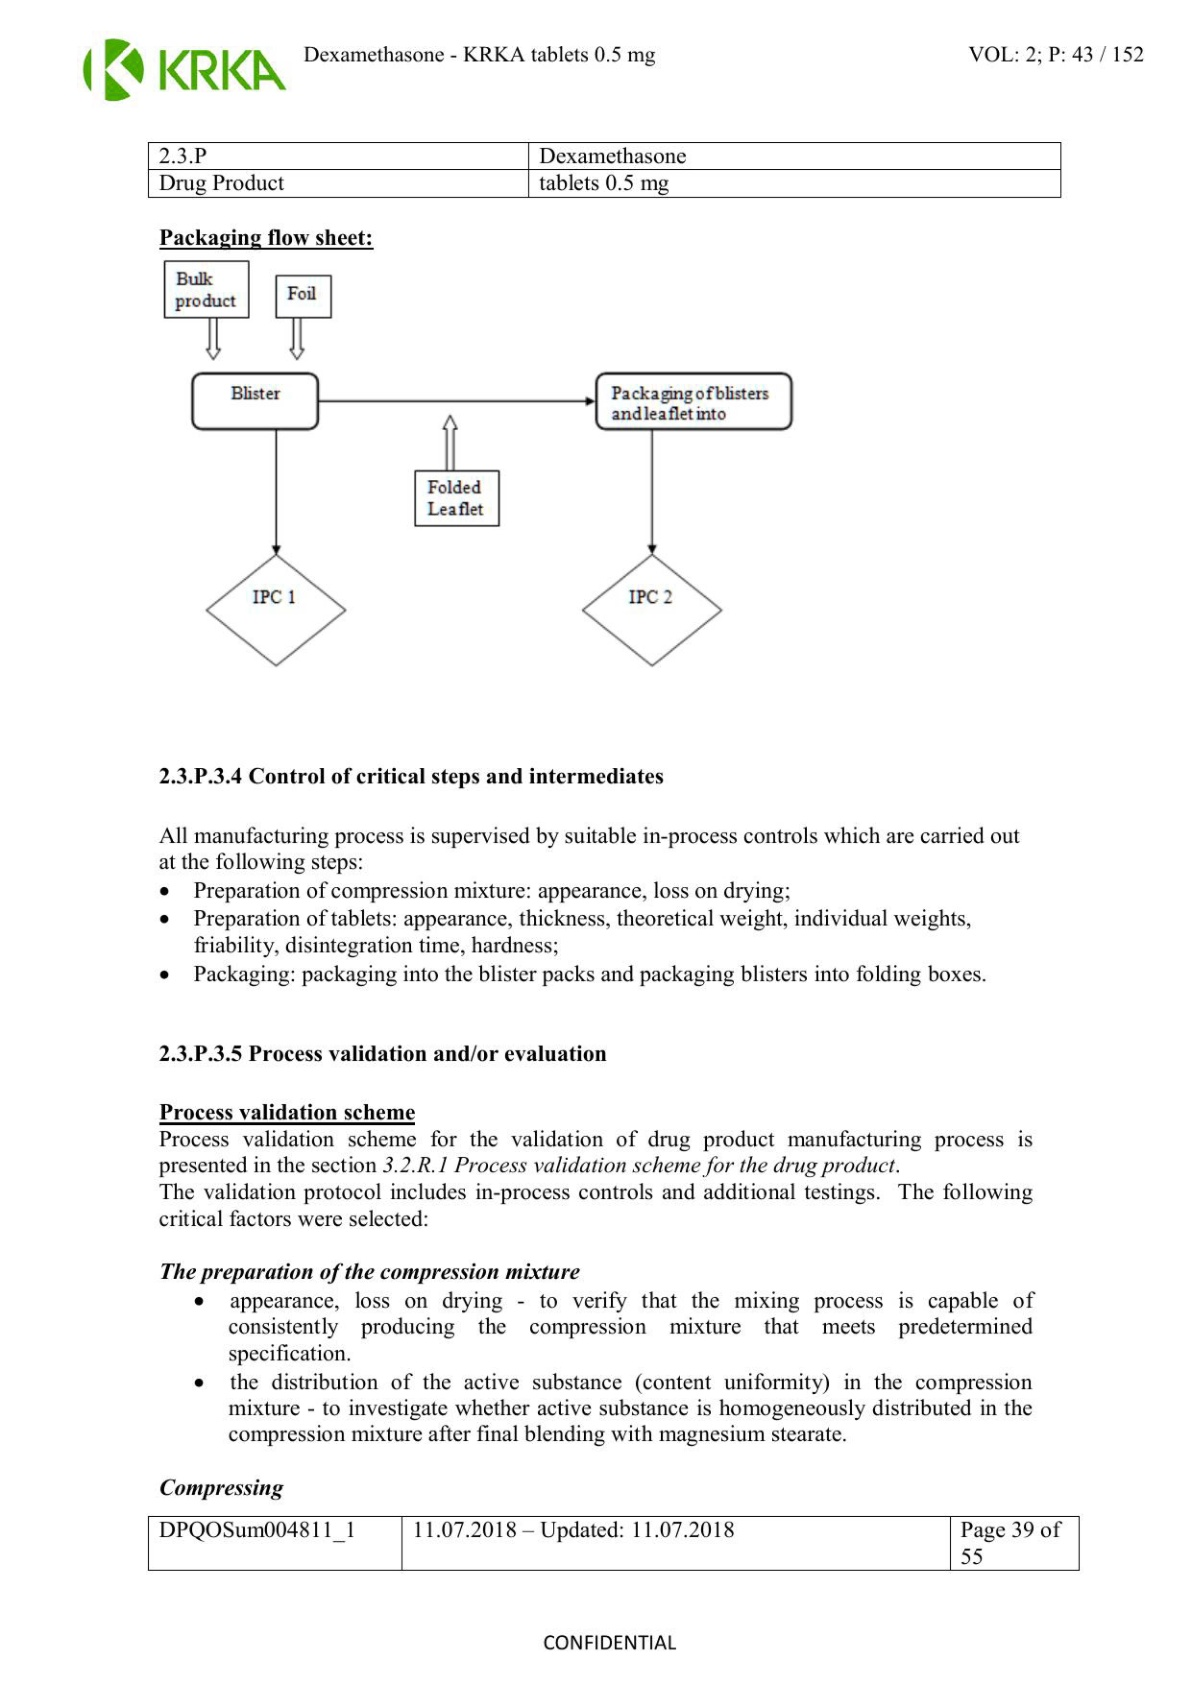full_lined: (148, 142, 1062, 199), (147, 1516, 1080, 1571)
